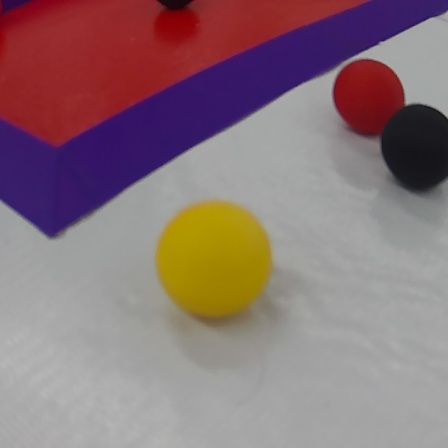black: (383, 102, 448, 190)
red: (330, 56, 407, 139)
red_aim: (3, 0, 448, 241)
yellow: (149, 199, 276, 331)
